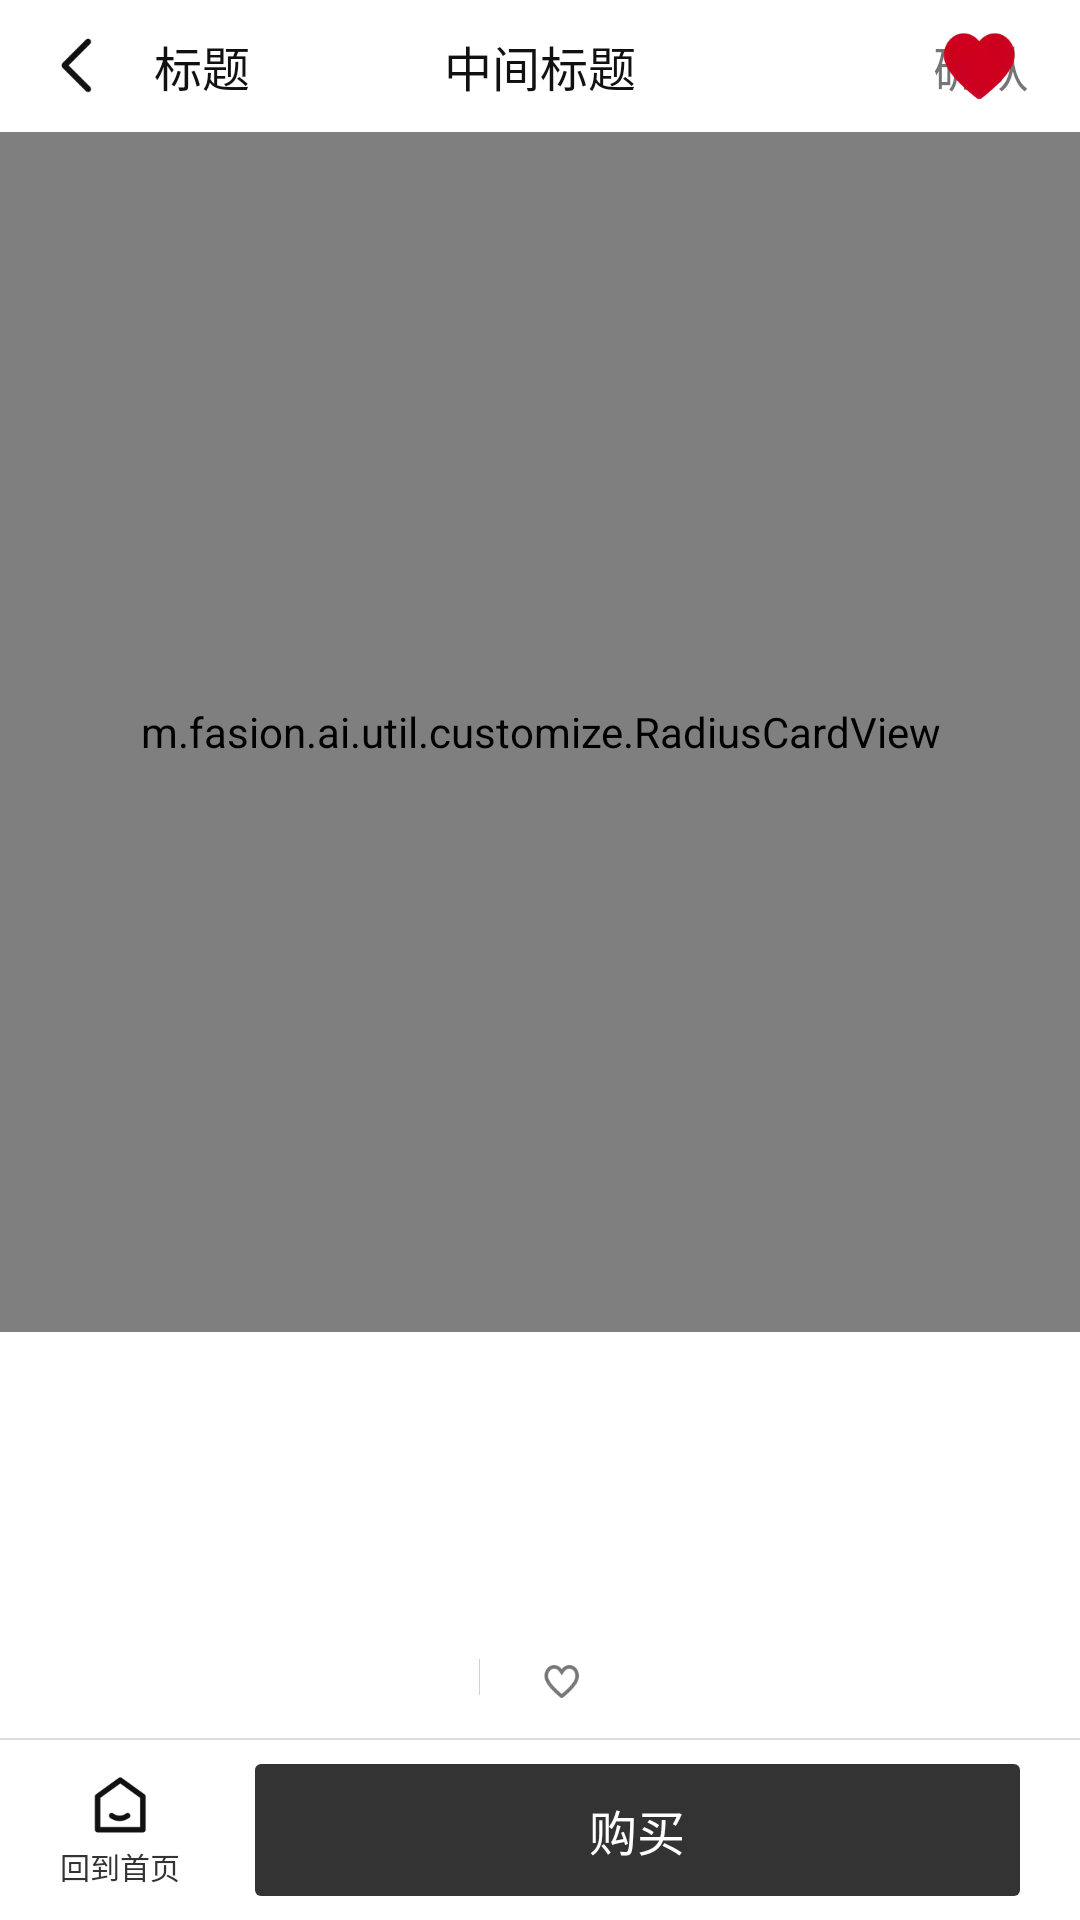

Where icons sit on this 1080w x 1920h app screen, as (x1, y1, x2, y2):
back: (61, 38, 92, 93)
uncollect: (544, 1665, 579, 1698)
